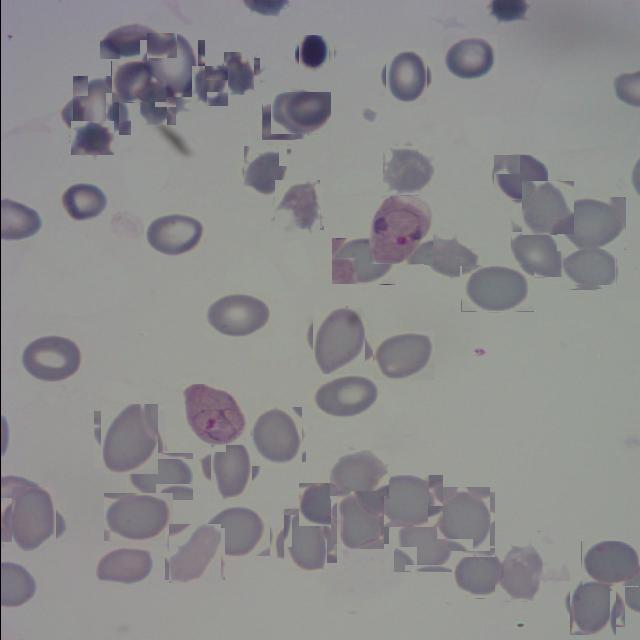leukocyte: (96, 408, 160, 472), (556, 197, 625, 250), (373, 475, 442, 528), (308, 311, 368, 371), (432, 489, 492, 548), (65, 82, 124, 141), (205, 502, 269, 556), (460, 265, 533, 312), (142, 36, 200, 94), (103, 493, 172, 541), (309, 374, 380, 420), (18, 335, 82, 385), (166, 526, 222, 582), (202, 293, 270, 339), (126, 453, 192, 500), (5, 492, 60, 548), (372, 331, 434, 380), (248, 409, 303, 464), (330, 238, 394, 285), (330, 450, 390, 499), (277, 514, 331, 568), (566, 577, 620, 631), (394, 522, 452, 572), (332, 494, 386, 546), (143, 212, 205, 257), (521, 181, 573, 234), (493, 546, 542, 602), (204, 442, 256, 494), (580, 541, 638, 587), (382, 145, 432, 196), (442, 35, 497, 81), (492, 155, 547, 201), (270, 92, 330, 134), (559, 246, 616, 290), (380, 51, 430, 101), (452, 548, 502, 598), (272, 182, 321, 232), (99, 21, 163, 59), (298, 483, 354, 526), (510, 230, 562, 276), (424, 236, 479, 278), (110, 61, 165, 103), (94, 546, 152, 585), (241, 147, 288, 195), (261, 99, 314, 140), (55, 182, 107, 223), (136, 78, 179, 122), (70, 121, 113, 155), (190, 67, 228, 105), (219, 55, 256, 92), (296, 37, 331, 71)
schizont: (368, 196, 432, 264), (181, 384, 246, 446)
